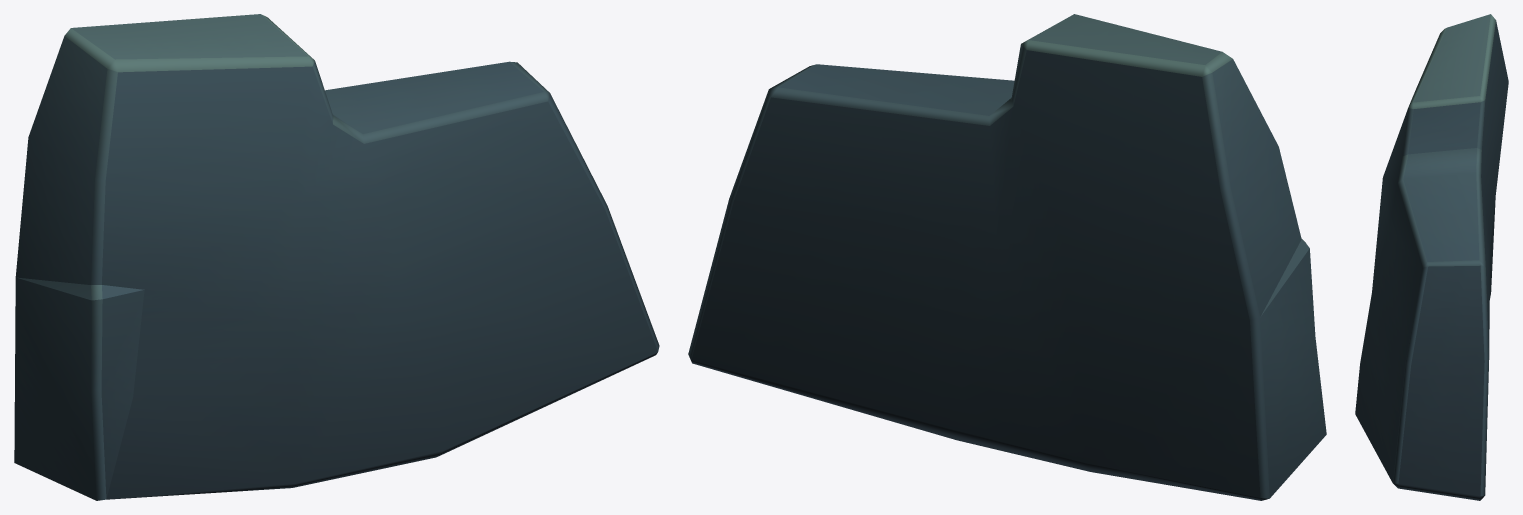
Rendered from rock_large_06.fbx.
The picture shows the model from 3 angles, left to right: view 1: azimuth 30°, elevation 25°; view 2: azimuth 150°, elevation 25°; view 3: azimuth 270°, elevation 25°; orthographic projection. The views are drawn at different scales.
Visible parts, largest first — view 1: rock_large_06; view 2: rock_large_06; view 3: rock_large_06.
Boxes of the visible parts, x1,y1,x2,y2 form: rock_large_06: (14, 14, 659, 500); rock_large_06: (688, 14, 1326, 500); rock_large_06: (1355, 14, 1508, 500).
Size of the model in its own units: 1684 by 1231 by 534.
